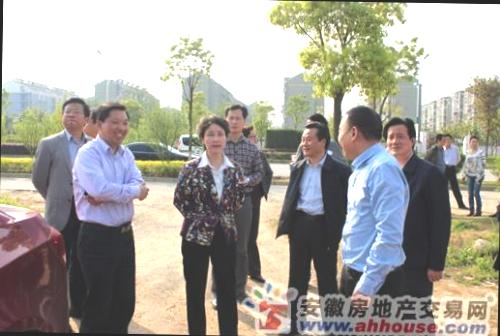no_helmet: (337, 104, 386, 160), (195, 111, 236, 160), (381, 117, 418, 162), (96, 101, 132, 145), (56, 94, 92, 138), (299, 114, 330, 160), (224, 101, 252, 137), (468, 134, 482, 151)
